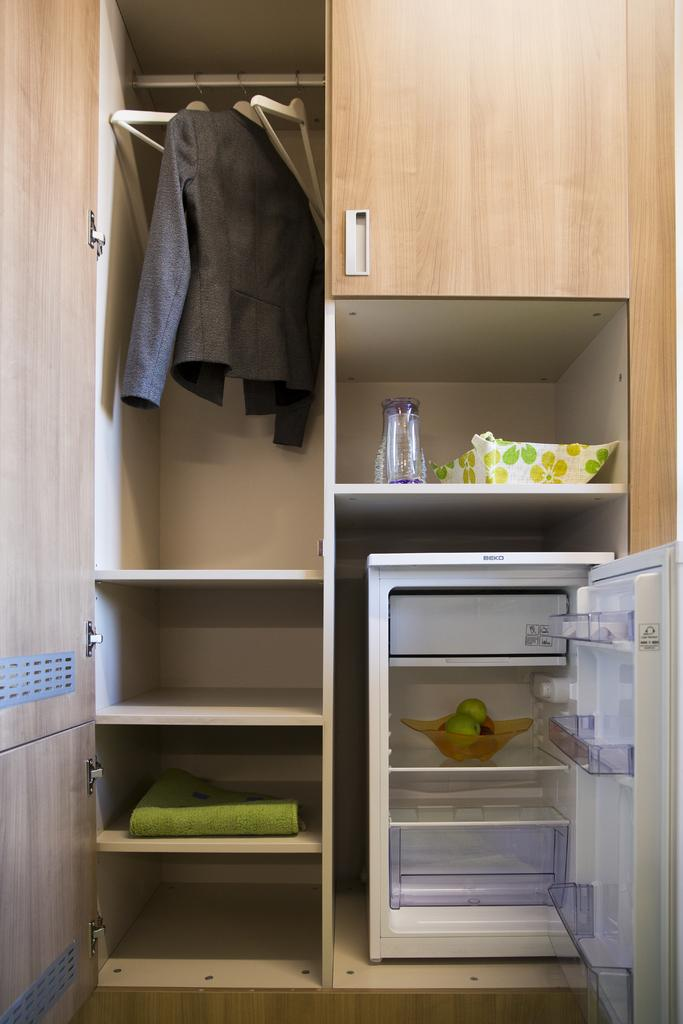cabinet_door: (330, 12, 626, 304), (2, 22, 94, 726), (6, 742, 94, 1010)
handle: (342, 202, 374, 277)
